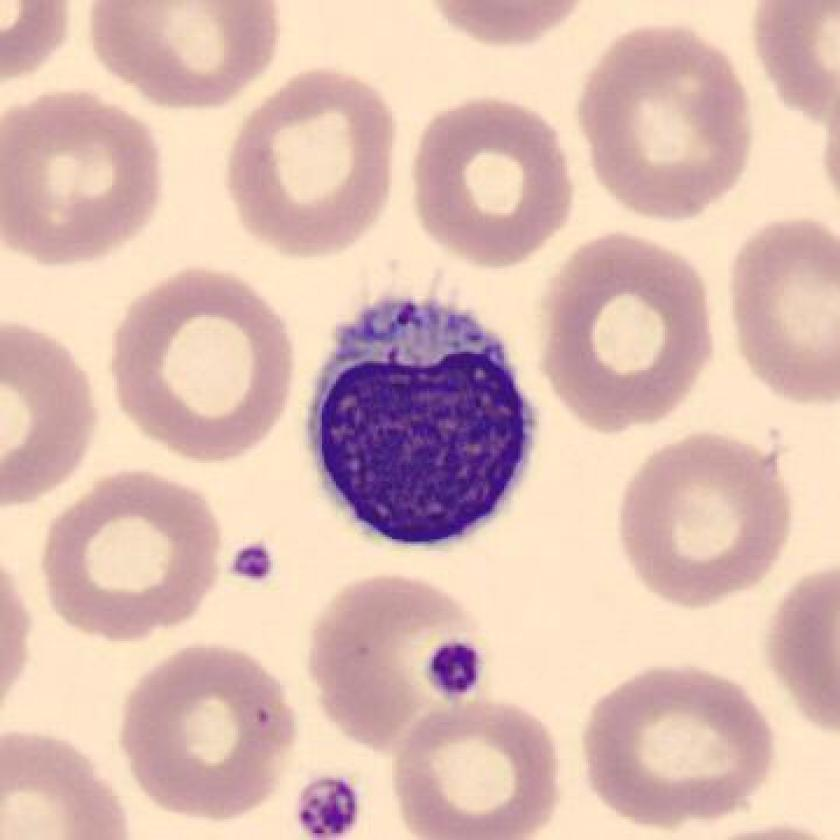lymphocyte: (293, 279, 552, 566)
